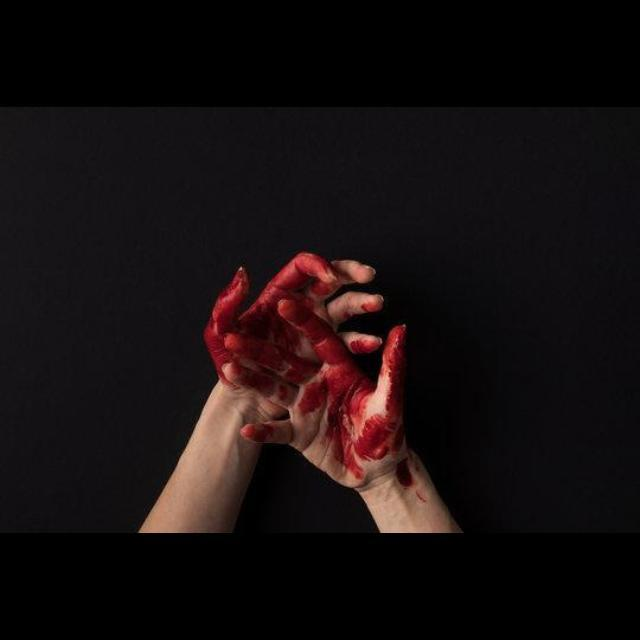blood: (205, 253, 440, 505), (241, 425, 281, 445)
